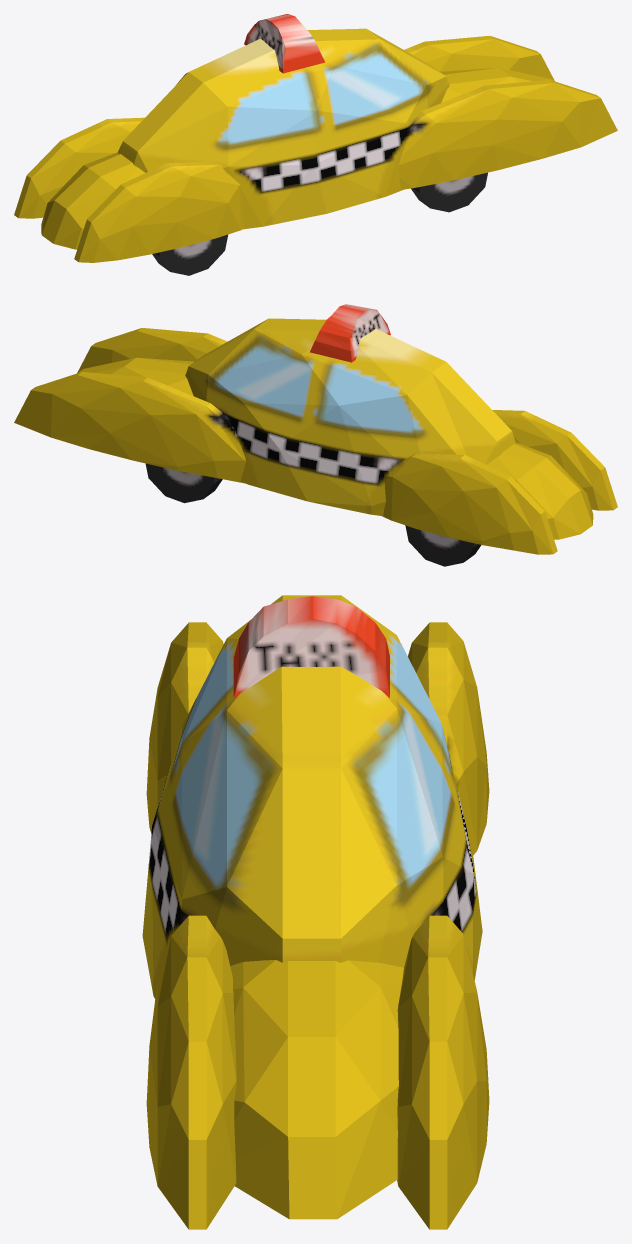
File: InvTaxi.glb
3 views of the same model, one above another, from view 1: azimuth 30°, elevation 25°; view 2: azimuth 150°, elevation 25°; view 3: azimuth 270°, elevation 25° (orthographic). The views are drawn at different scales.
Visible parts, largest first — view 1: InvTaxi; view 2: InvTaxi; view 3: InvTaxi.
Boxes of the visible parts, left/top/right/bottom form: InvTaxi: left=14, top=14, right=617, bottom=275; InvTaxi: left=14, top=304, right=617, bottom=566; InvTaxi: left=142, top=595, right=489, bottom=1229.
Size of the model in its own units: 58.3 by 20.54 by 16.23.
Materials: 1 (1 with a texture image).
